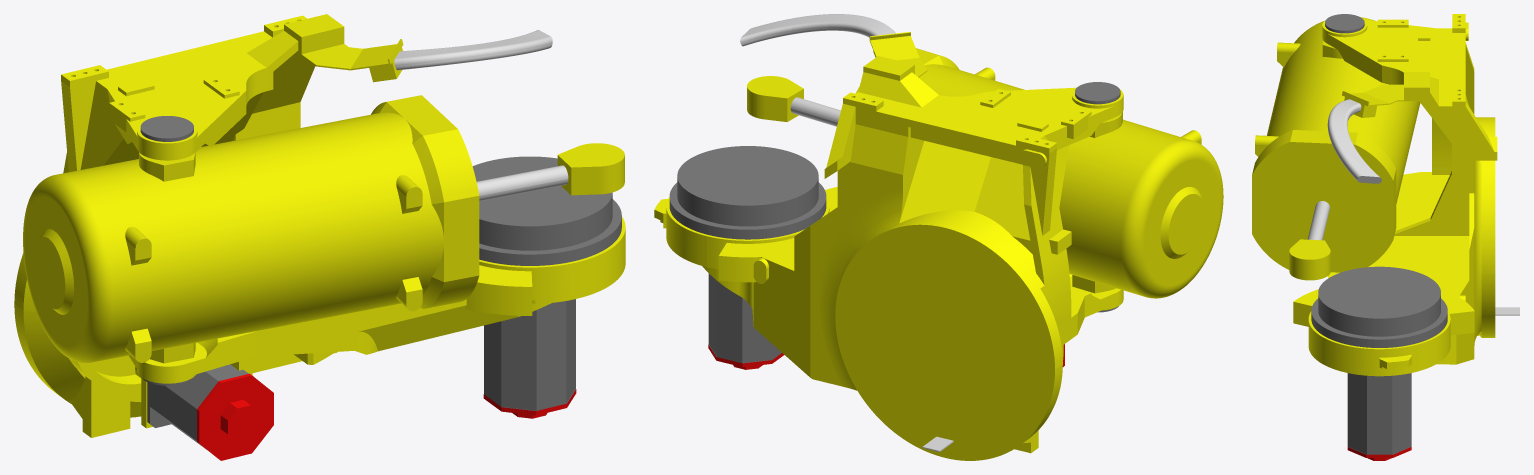
The picture shows the model from 3 angles, left to right: view 1: azimuth 30°, elevation 25°; view 2: azimuth 150°, elevation 25°; view 3: azimuth 270°, elevation 25°; orthographic projection. The views are drawn at different scales.
Parts seen in each view (by area): view 1: Mesh_0; view 2: Mesh_0; view 3: Mesh_0.
Part boxes in pixels (left/top/right/bottom): Mesh_0: left=14, top=14, right=625, bottom=460; Mesh_0: left=654, top=14, right=1223, bottom=460; Mesh_0: left=1252, top=14, right=1519, bottom=460.
Bounding box in the file's own units: 1.39 × 0.9193 × 0.7282.
